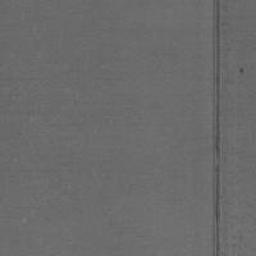Welding line: (211, 0, 221, 256)
